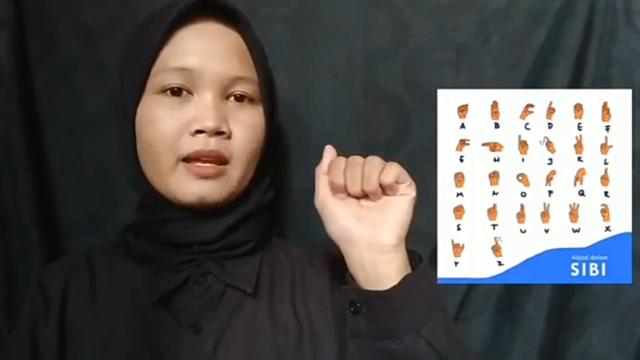A: (310, 139, 420, 261)
